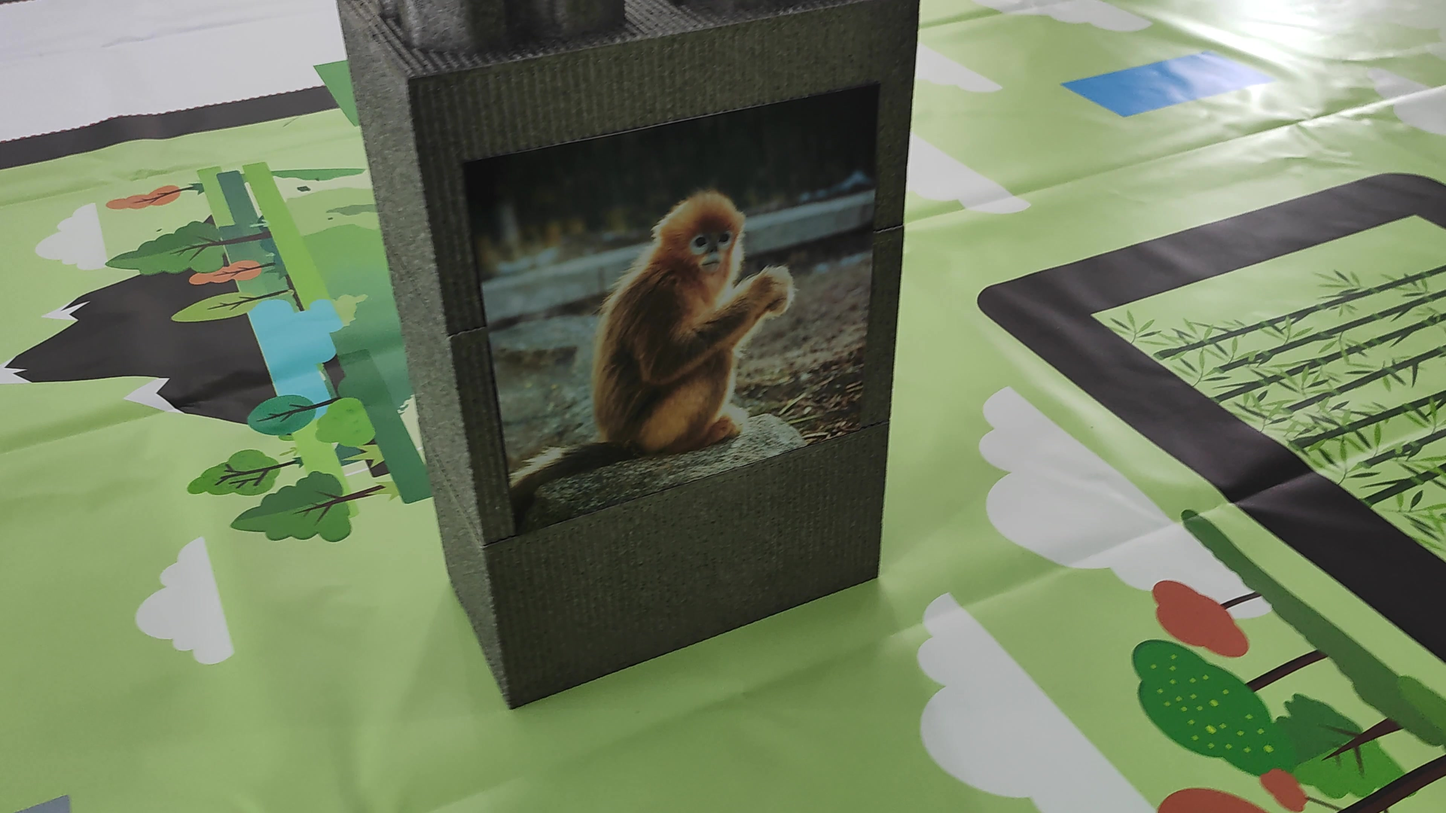monkey: (487, 164, 809, 512)
